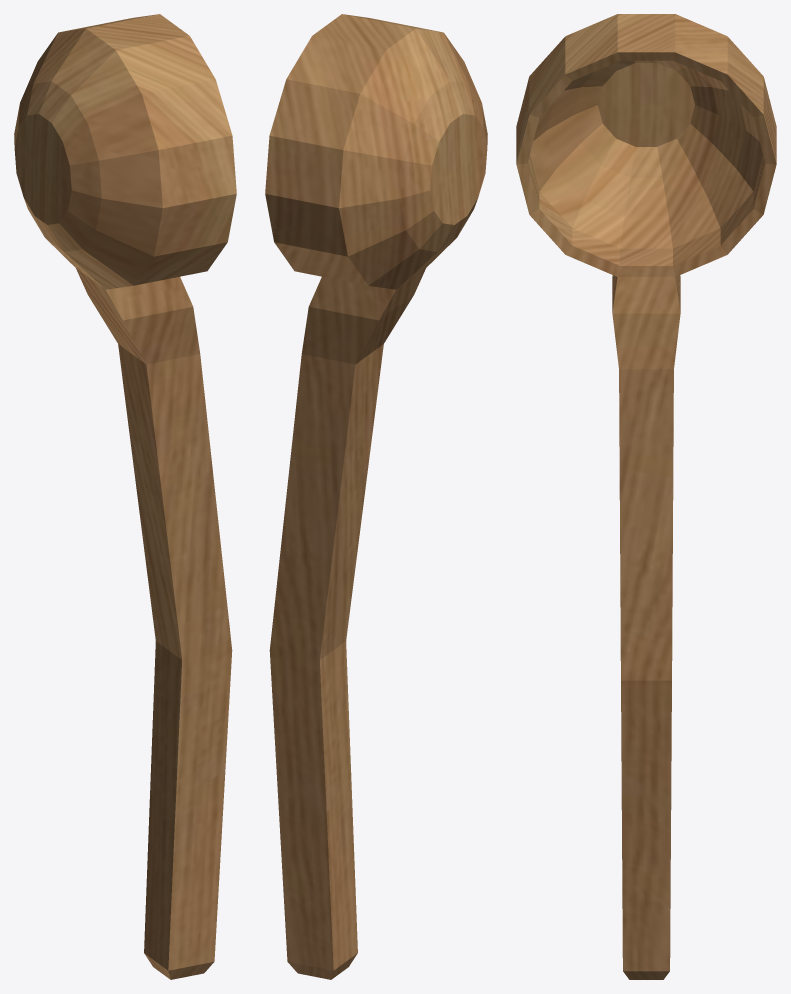
File: Scoop.fbx
3 views of the same model, side by side, from view 1: azimuth 30°, elevation 25°; view 2: azimuth 150°, elevation 25°; view 3: azimuth 270°, elevation 25° (orthographic). The views are drawn at different scales.
Visible parts, largest first — view 1: sandok.001; view 2: sandok.001; view 3: sandok.001.
Boxes of the visible parts, <box> form: sandok.001: <box>14,14,236,979</box>; sandok.001: <box>265,14,487,979</box>; sandok.001: <box>516,14,776,979</box>.
Bounding box in the file's own units: 152 × 779 × 199.
